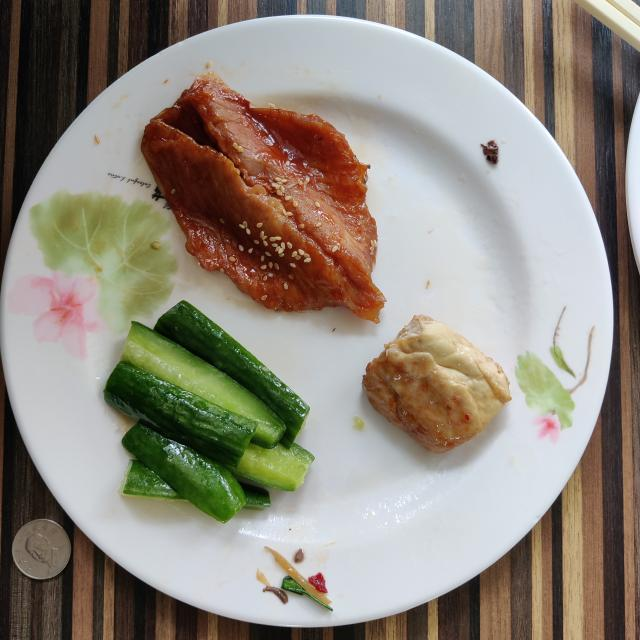Kabayaki sea bream fillet: (141, 74, 384, 320)
coin: (12, 519, 71, 580)
cucumber: (104, 301, 314, 522)
